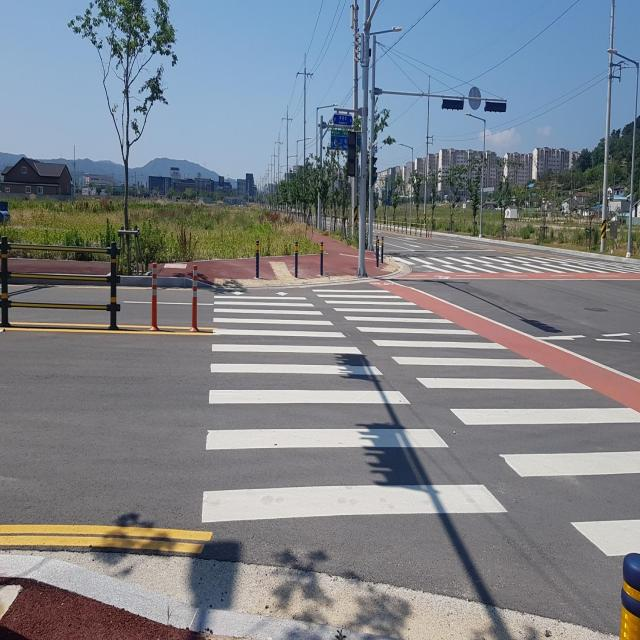횡단보도: (200, 287, 640, 558), (388, 256, 640, 274)
